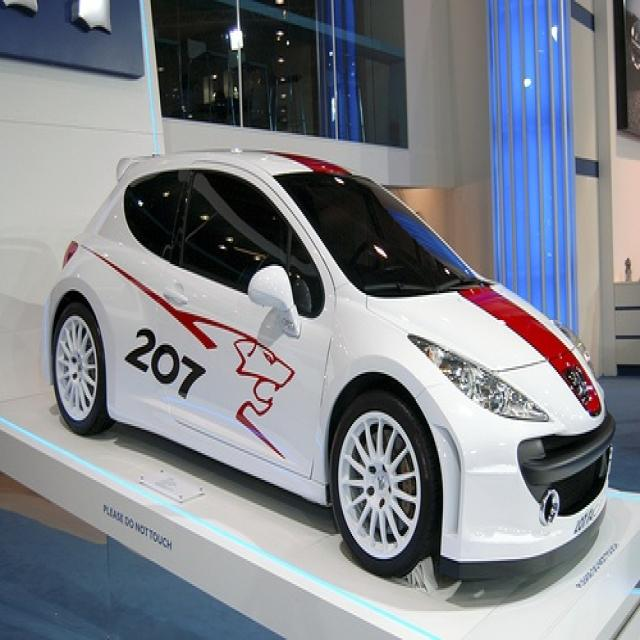car: (45, 149, 614, 582)
